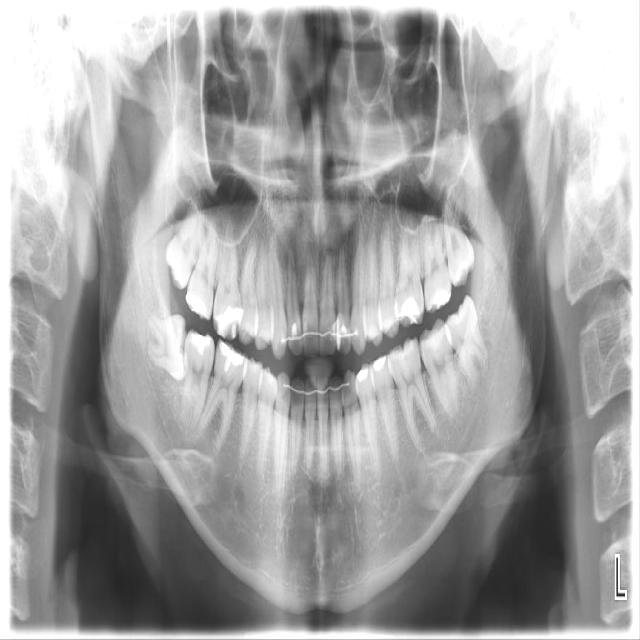Filling: (181, 287, 213, 317), (217, 339, 245, 373), (215, 306, 242, 334), (397, 295, 421, 323), (335, 313, 351, 354), (424, 287, 449, 311), (287, 317, 302, 354), (188, 334, 210, 353), (371, 354, 389, 371), (355, 368, 369, 384)
impacted tooth: (447, 297, 488, 389), (144, 313, 185, 379)
